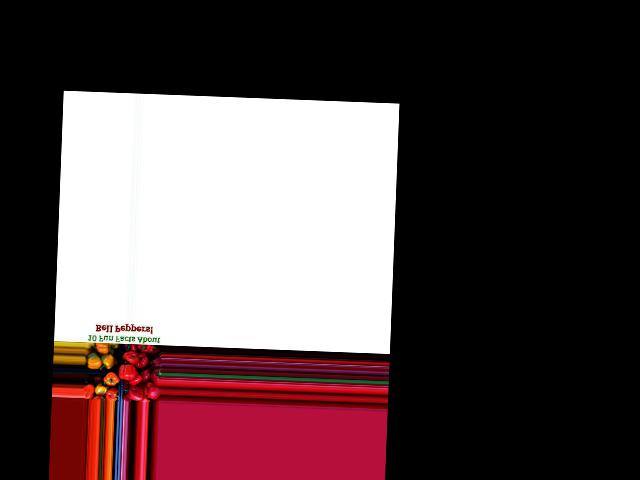bell_pepper: (132, 341, 154, 356)
